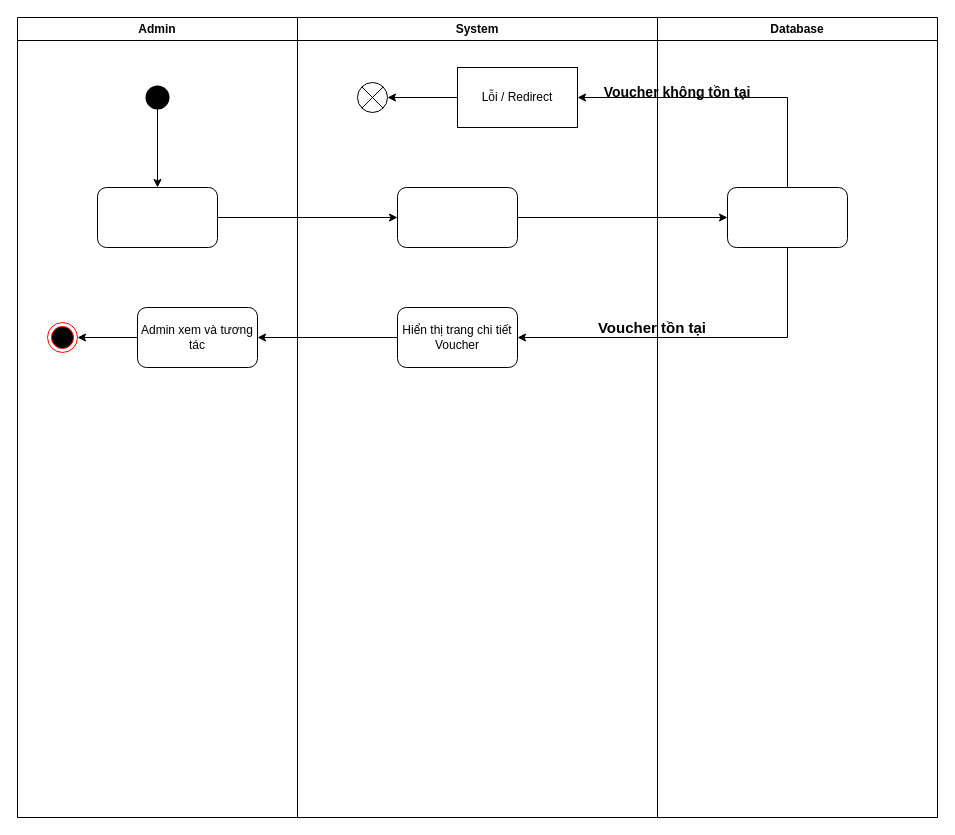
This 955x835 diagram has some shape labels left out. Each missing label, with the centre of its shape:
Nhấn "Xem chi tiết voucher": [157,217]
Nhận IDVoucher: [457,217]
Thực thi lệnh Select: [787,217]
